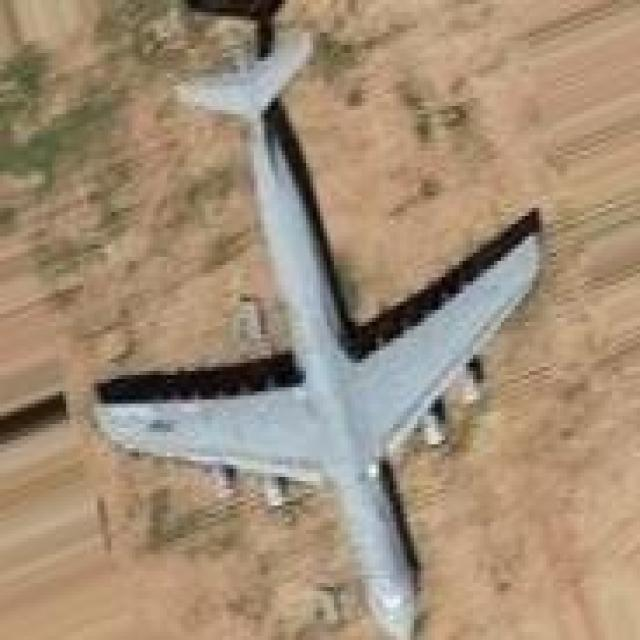C-5_TopDown: (84, 24, 546, 636)
